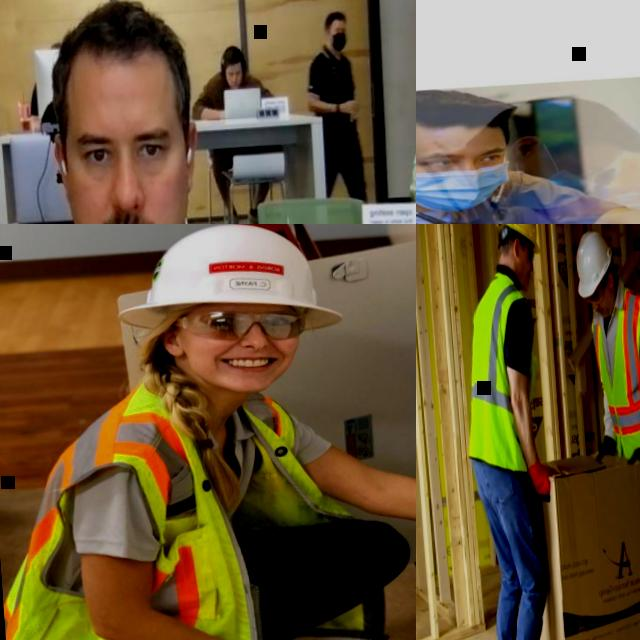Hardhat: (109, 224, 344, 341), (574, 228, 613, 296), (493, 224, 539, 250)
Mask: (416, 163, 506, 212), (511, 166, 608, 209), (330, 32, 347, 46)
NO-Hardhat: (57, 0, 188, 94), (492, 92, 640, 156), (416, 84, 514, 145), (221, 43, 245, 62), (324, 6, 345, 25)
NO-Mask: (191, 350, 285, 394), (518, 265, 532, 287), (599, 296, 610, 317), (227, 71, 240, 84)
NO-Safety Vest: (316, 53, 362, 159), (210, 70, 252, 109)
Person: (0, 224, 416, 640), (0, 0, 337, 224), (447, 224, 574, 640), (416, 66, 640, 224), (573, 224, 640, 640), (188, 40, 283, 224), (489, 87, 640, 197), (303, 2, 368, 193), (22, 39, 66, 112), (402, 60, 416, 224)
Safety Vest: (0, 375, 403, 640), (454, 270, 540, 472), (589, 282, 640, 472)
